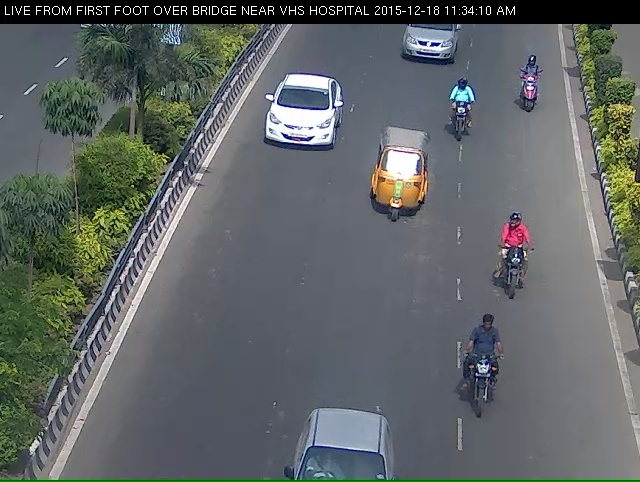Car: (258, 77, 338, 179), (367, 135, 431, 251), (395, 16, 469, 80)
Person: (441, 344, 517, 452), (485, 225, 531, 327), (442, 87, 481, 165), (519, 62, 554, 141)
